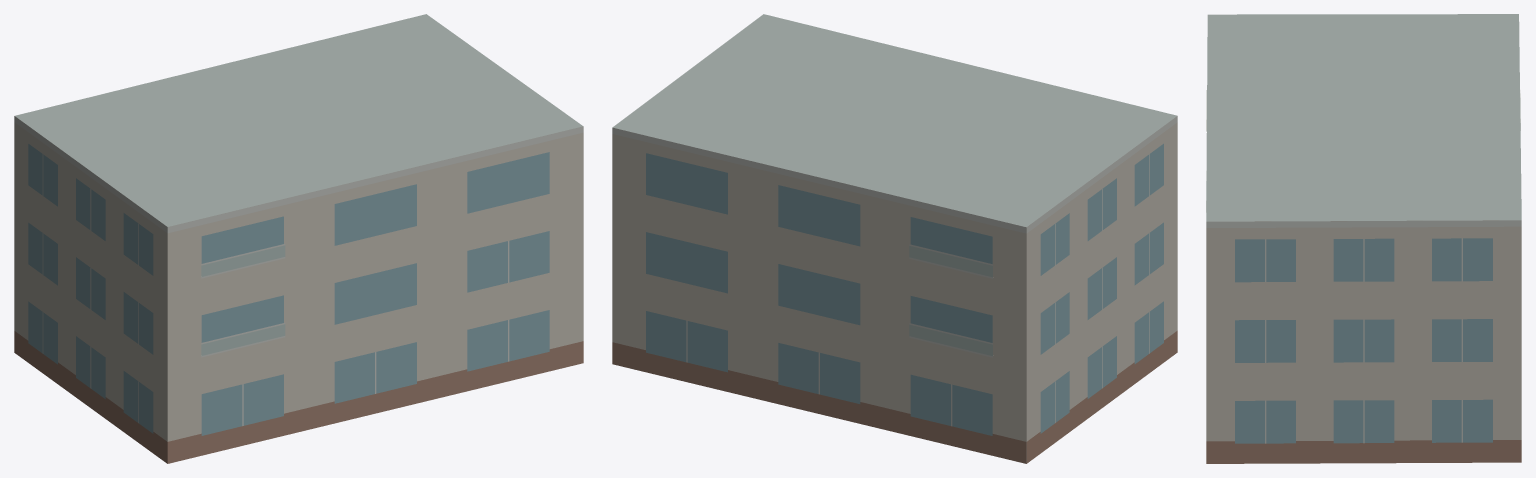
File: survey-upis-33024675.glb
3 renders of one model, left to right at view 1: azimuth 30°, elevation 25°; view 2: azimuth 150°, elevation 25°; view 3: azimuth 270°, elevation 25°, orthographic. The views are drawn at different scales.
Parts seen in each view (by area): view 1: survey-upis-33024675.tmp; view 2: survey-upis-33024675.tmp; view 3: survey-upis-33024675.tmp.
Boxes of the visible parts, left/top/right/bottom form: survey-upis-33024675.tmp: left=14, top=14, right=583, bottom=463; survey-upis-33024675.tmp: left=612, top=14, right=1177, bottom=463; survey-upis-33024675.tmp: left=1206, top=14, right=1521, bottom=463.
Size of the model in its own units: 16.83 by 9.15 by 10.82.
